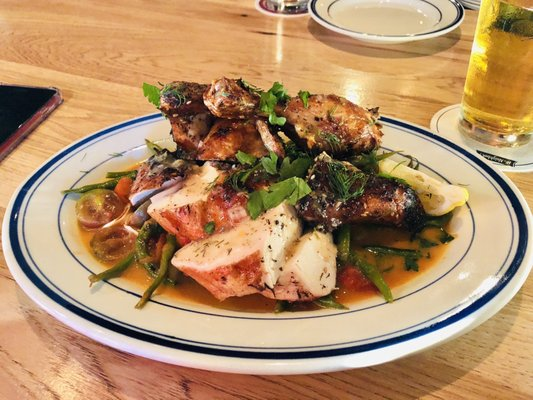pizza: (437, 0, 533, 164), (256, 0, 312, 17)
